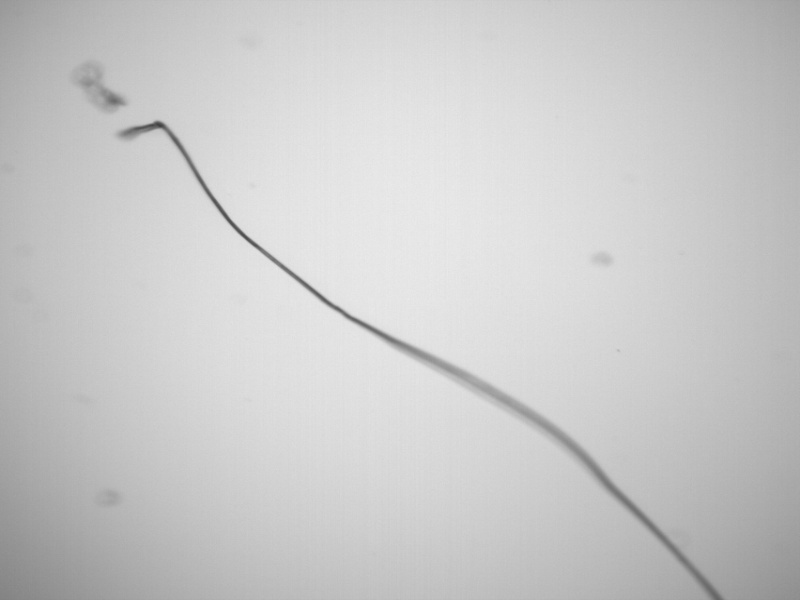fiber: (118, 119, 729, 600)
